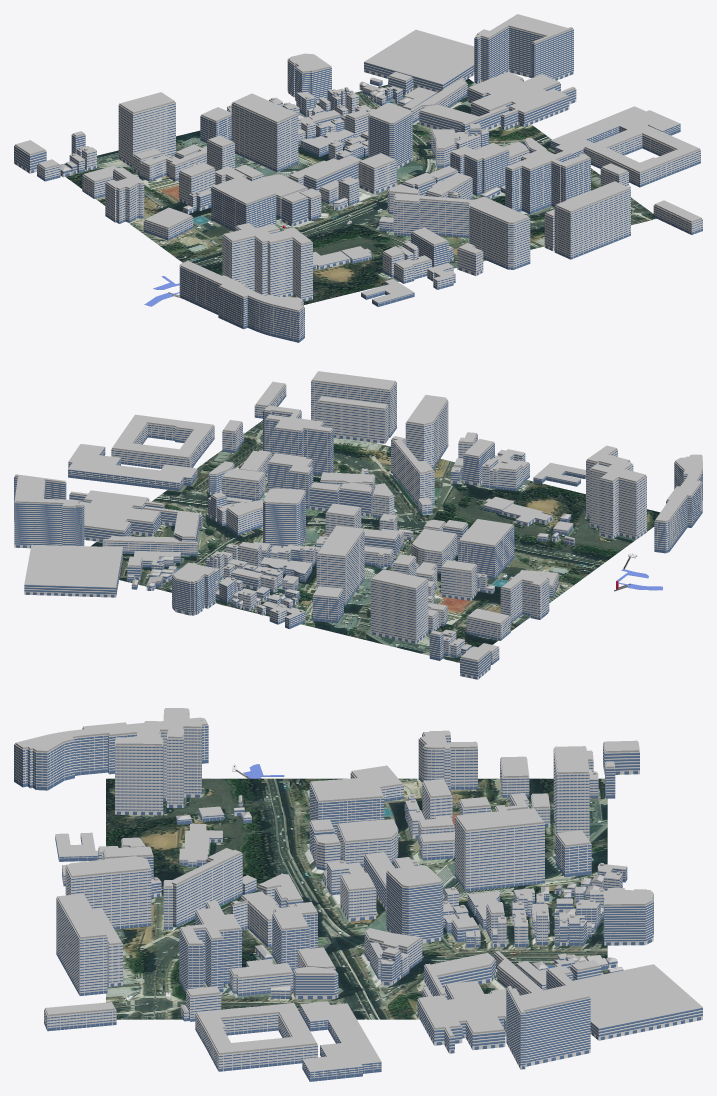
Rendered from town.dae.
The picture shows the model from 3 angles, top to bottom: view 1: azimuth 30°, elevation 25°; view 2: azimuth 150°, elevation 25°; view 3: azimuth 270°, elevation 25°; orthographic projection. The views are drawn at different scales.
Parts seen in each view (by area): view 1: CityEngineMaterial16, CityEngineMaterial20, CityEngineShapeMaterial, CityEngineMaterial23, CityEngineMaterial18, CityEngineMaterial22, CityEngineMaterial19, CityEngineMaterial17, CityEngineMaterial21; view 2: CityEngineMaterial16, CityEngineShapeMaterial, CityEngineMaterial20, CityEngineMaterial18, CityEngineMaterial23, CityEngineMaterial22, CityEngineMaterial17, CityEngineMaterial21, CityEngineMaterial19; view 3: CityEngineMaterial16, CityEngineShapeMaterial, CityEngineMaterial20, CityEngineMaterial23, CityEngineMaterial18, CityEngineMaterial22, CityEngineMaterial19, CityEngineMaterial17, CityEngineMaterial21.
Part boxes in pixels (x1,y1,x2,y2): CityEngineMaterial16: [14, 14, 702, 311]; CityEngineMaterial20: [69, 80, 700, 287]; CityEngineShapeMaterial: [64, 78, 656, 304]; CityEngineMaterial23: [14, 27, 576, 267]; CityEngineMaterial18: [37, 92, 702, 298]; CityEngineMaterial22: [174, 79, 680, 339]; CityEngineMaterial19: [37, 99, 702, 289]; CityEngineMaterial17: [14, 69, 576, 301]; CityEngineMaterial21: [143, 80, 680, 342]; CityEngineMaterial16: [14, 371, 702, 661]; CityEngineShapeMaterial: [91, 420, 660, 662]; CityEngineMaterial20: [102, 381, 574, 654]; CityEngineMaterial18: [212, 385, 646, 662]; CityEngineMaterial23: [14, 443, 571, 676]; CityEngineMaterial22: [68, 411, 702, 625]; CityEngineMaterial17: [14, 434, 646, 679]; CityEngineMaterial21: [68, 440, 702, 660]; CityEngineMaterial19: [121, 394, 574, 664]; CityEngineMaterial16: [14, 708, 702, 1071]; CityEngineShapeMaterial: [106, 778, 607, 1019]; CityEngineMaterial20: [56, 734, 622, 1068]; CityEngineMaterial23: [103, 743, 702, 1065]; CityEngineMaterial18: [44, 712, 603, 1027]; CityEngineMaterial22: [14, 725, 627, 1077]; CityEngineMaterial19: [44, 775, 622, 1071]; CityEngineMaterial17: [107, 761, 702, 1069]; CityEngineMaterial21: [14, 759, 627, 1081].
Bounding box in the file's own units: 909 × 130 × 791.
Materials: 25 (12 with a texture image).
